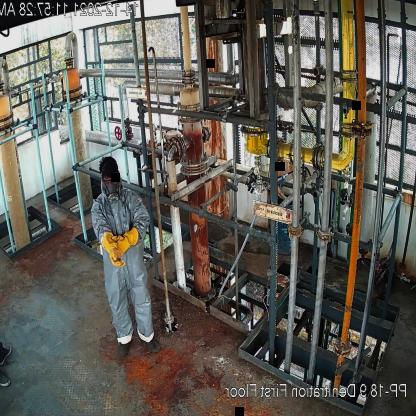goggles: (102, 174, 118, 184)
mask: (105, 181, 121, 203)
